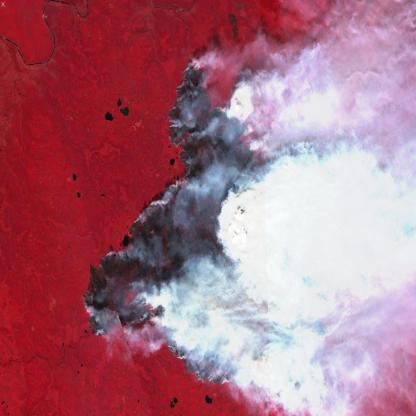fire: (81, 58, 309, 394)
